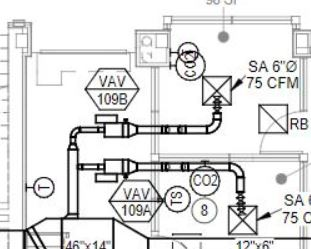VAV: (91, 154, 140, 188), (92, 111, 143, 139)
